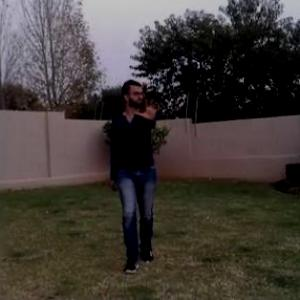follow_hand: (134, 89, 169, 123)
